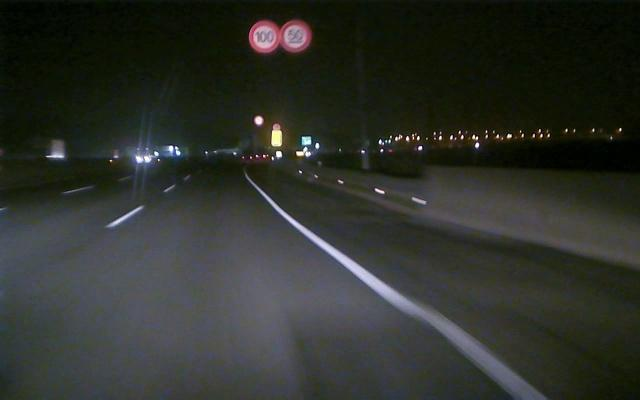lane: (253, 185, 549, 398), (106, 185, 175, 228)
